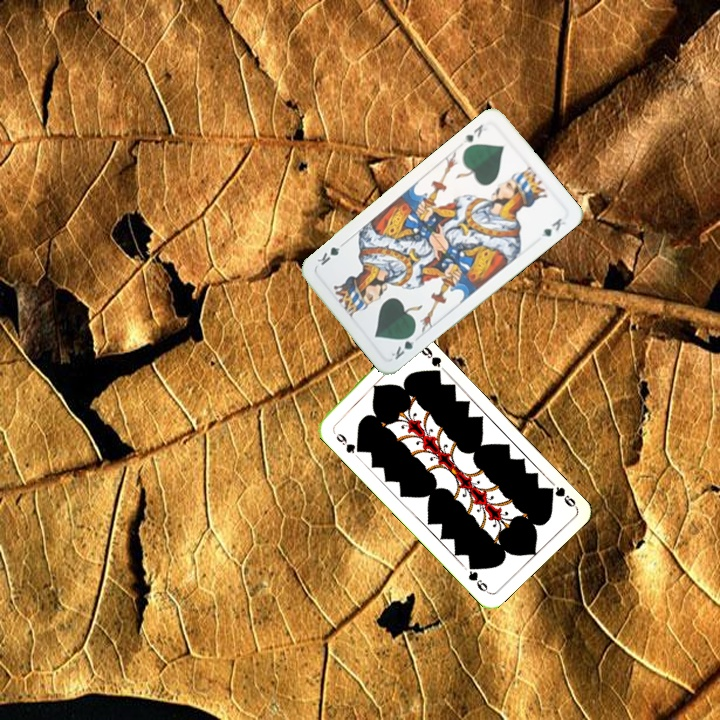G9: (542, 483, 579, 510), (332, 429, 364, 456)
GK: (387, 328, 419, 362), (459, 120, 486, 147)
